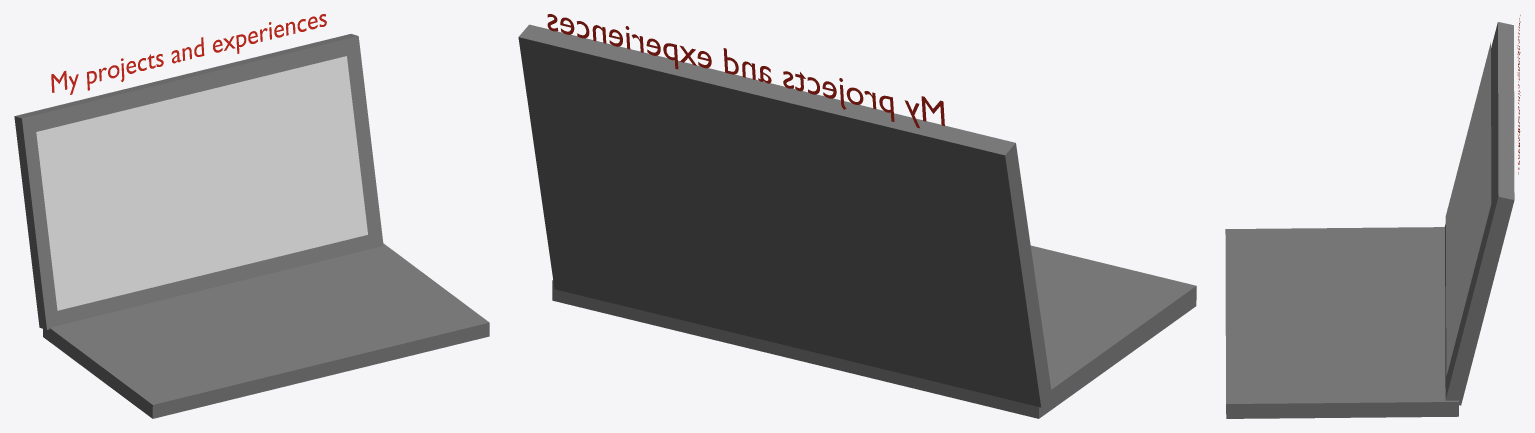
Rendered from projects.glb.
3 renders of one model, left to right at view 1: azimuth 30°, elevation 25°; view 2: azimuth 150°, elevation 25°; view 3: azimuth 270°, elevation 25°, orthographic. The views are drawn at different scales.
Parts seen in each view (by area): view 1: laptopscreen, laptop.001, laptop.002, projandexp; view 2: laptop.002, laptop.001, projandexp; view 3: laptop.001, laptop.002, laptopscreen.
Boxes of the visible parts, left/top/right/bottom form: laptopscreen: left=36, top=56, right=367, bottom=310; laptop.001: left=43, top=243, right=489, bottom=418; laptop.002: left=14, top=34, right=383, bottom=329; projandexp: left=51, top=14, right=326, bottom=94; laptop.002: left=518, top=24, right=1051, bottom=407; laptop.001: left=552, top=245, right=1196, bottom=418; projandexp: left=547, top=14, right=944, bottom=128; laptop.001: left=1225, top=227, right=1458, bottom=418; laptop.002: left=1444, top=22, right=1514, bottom=405; laptopscreen: left=1445, top=42, right=1491, bottom=376.
Bounding box in the file's own units: 8.07 × 5.31 × 5.7.
